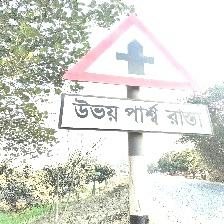Crossroad: (60, 12, 211, 135)
